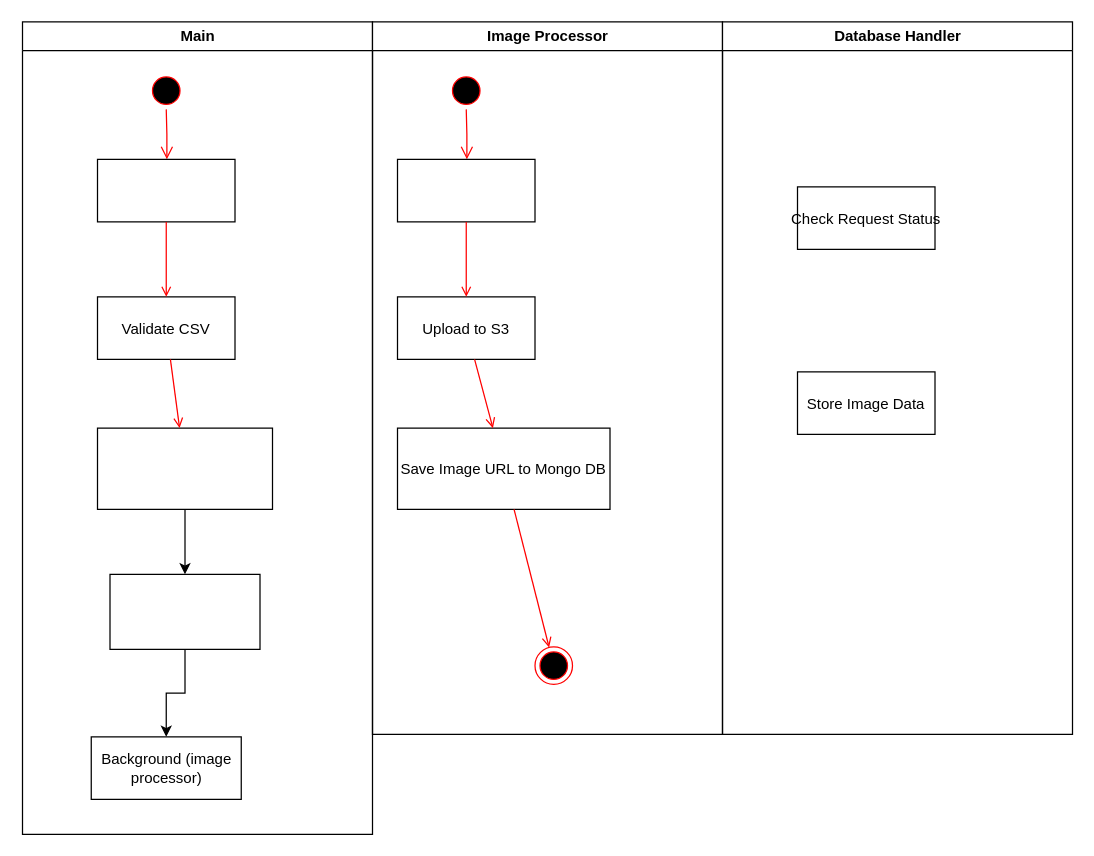
Image size: 1094x856. Some labels were removed from this diagram. The centre of each missing label's shape, as x and y in pixels:
"Compress Image" belongs at point (465, 190).
"Receive CSV" belongs at point (165, 190).
"Return progress status" belongs at point (184, 611).
"Store Initial raw Data" belongs at point (184, 468).
